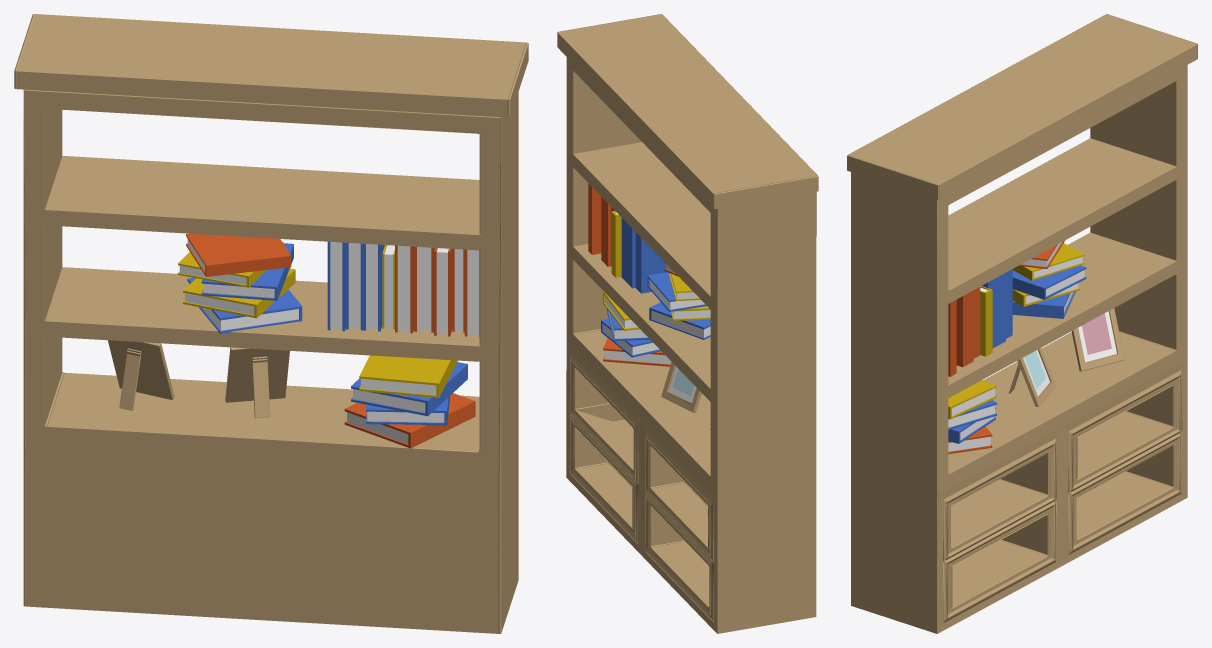
The model's file is bibli.glb.
The picture shows the model from 3 angles, left to right: view 1: azimuth 30°, elevation 25°; view 2: azimuth 150°, elevation 25°; view 3: azimuth 270°, elevation 25°; orthographic projection. The views are drawn at different scales.
Parts seen in each view (by area): view 1: Bookshelf, Book.002, Book, Book.003, Photo frame, Photo frame.001; view 2: Bookshelf, Book.002, Book, Book.003, Photo frame; view 3: Bookshelf, Book.002, Book, Book.003, Photo frame.001, Photo frame.
Part boxes in pixels (x1,y1,x2,y2): Bookshelf: (14, 14, 528, 633); Book.002: (327, 241, 479, 336); Book: (178, 233, 302, 333); Book.003: (344, 355, 475, 448); Photo frame: (225, 347, 289, 418); Photo frame.001: (108, 340, 174, 410); Bookshelf: (557, 14, 818, 633); Book.002: (588, 183, 667, 293); Book: (647, 262, 710, 339); Book.003: (601, 291, 671, 366); Photo frame: (661, 362, 702, 412); Bookshelf: (847, 14, 1197, 633); Book.002: (948, 269, 1012, 376); Book: (1012, 240, 1086, 318); Book.003: (948, 380, 996, 454); Photo frame.001: (1071, 308, 1124, 371); Photo frame: (1009, 348, 1055, 406).
Size of the model in its own units: 0.2261 by 0.2789 by 0.1956.
